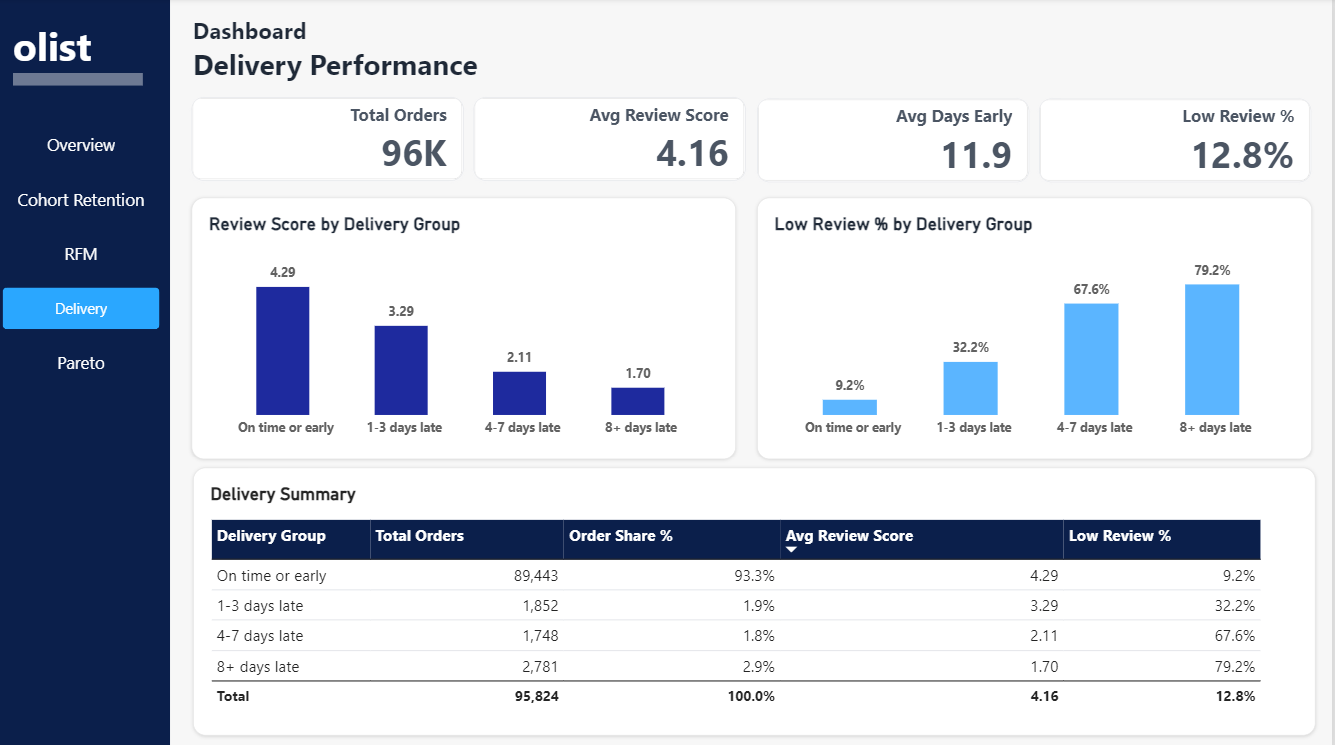

The page's visual inventory and layout, read from the dashboard file:
{"tool":"powerbi","page":{"name":"Delivery","canvas":[1280,720],"ordinal":3},"visuals":[{"type":"shape","box":[0,0,170,720],"z":0},{"type":"textbox","box":[20,20,160,64],"z":1000},{"type":"shape","box":[20,72,124,12],"z":2000},{"type":"pageNavigator","box":[10,120,150,250],"z":3000},{"type":"textbox","box":[192,16,480,70],"z":4000},{"type":"cardVisual","fields":{"Data":["delivery_review.Total Orders"]},"box":[190,95,260,80],"z":5000},{"type":"cardVisual","fields":{"Data":["delivery_review.Avg Review Score"]},"box":[460,95,260,80],"z":6000},{"type":"cardVisual","fields":{"Data":["delivery_review.Avg Days Early"]},"box":[730,96,260,80],"z":7000},{"type":"cardVisual","fields":{"Data":["delivery_review.Low Review %"]},"box":[1000,96,260,80],"z":8000},{"type":"clusteredColumnChart","title":"Review Score by Delivery Group","fields":{"Category":["delivery_review.delivery_group"],"Y":["delivery_review.Avg Review Score"]},"box":[190,190,520,250],"z":8001},{"type":"clusteredColumnChart","title":"Low Review % by Delivery Group","fields":{"Category":["delivery_review.delivery_group"],"Y":["delivery_review.Low Review %"]},"box":[730,190,530,250],"z":8002},{"type":"tableEx","title":"Delivery Summary","fields":{"Values":["delivery_review.delivery_group","delivery_review.Total Orders","delivery_review.Order Share %","delivery_review.Avg Review Score","delivery_review.Low Review %"]},"box":[192,448,1072,256],"z":8005}]}

Visuals, with their boxes on the page's 1280x720 design canvas (x1, y1, x2, y2). These are canvas units, not pixel positions in the 1335x745 screenshot, which may show the page scaled, cropped or inside an application window:
shape: [0, 0, 170, 720]
textbox: [20, 20, 180, 84]
shape: [20, 72, 144, 84]
pageNavigator: [10, 120, 160, 370]
textbox: [192, 16, 672, 86]
cardVisual - delivery_review.Total Orders: [190, 95, 450, 175]
cardVisual - delivery_review.Avg Review Score: [460, 95, 720, 175]
cardVisual - delivery_review.Avg Days Early: [730, 96, 990, 176]
cardVisual - delivery_review.Low Review %: [1000, 96, 1260, 176]
"Review Score by Delivery Group" clusteredColumnChart: [190, 190, 710, 440]
"Low Review % by Delivery Group" clusteredColumnChart: [730, 190, 1260, 440]
"Delivery Summary" tableEx: [192, 448, 1264, 704]
